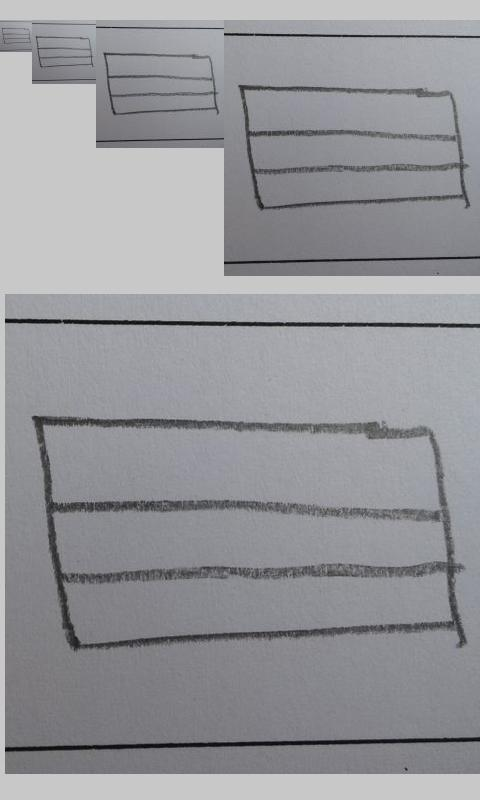list_view: (31, 411, 461, 653), (239, 84, 468, 212), (103, 51, 218, 116), (35, 36, 93, 68), (1, 27, 31, 45)
